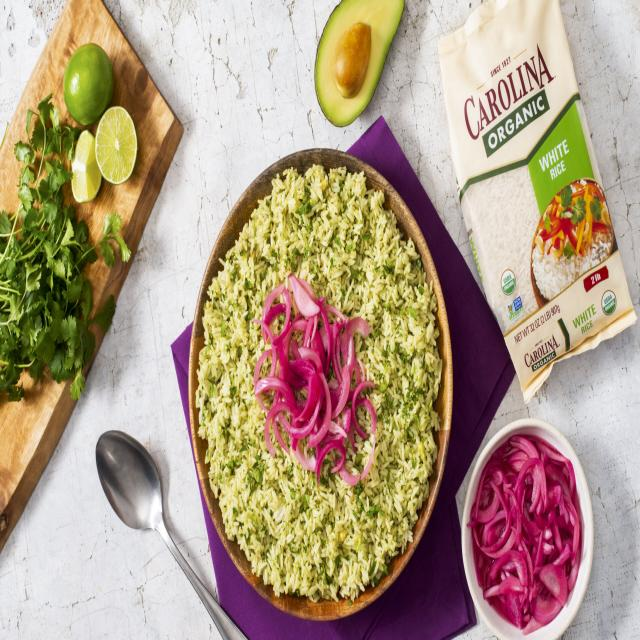aguacate: (310, 2, 404, 133)
